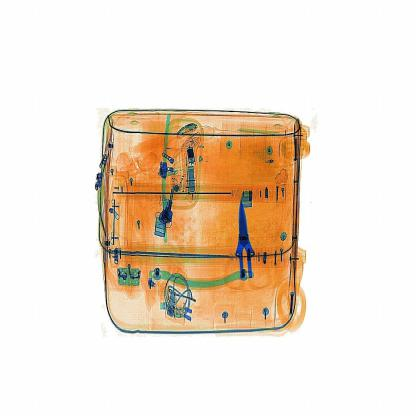gun: (220, 189, 276, 291)
